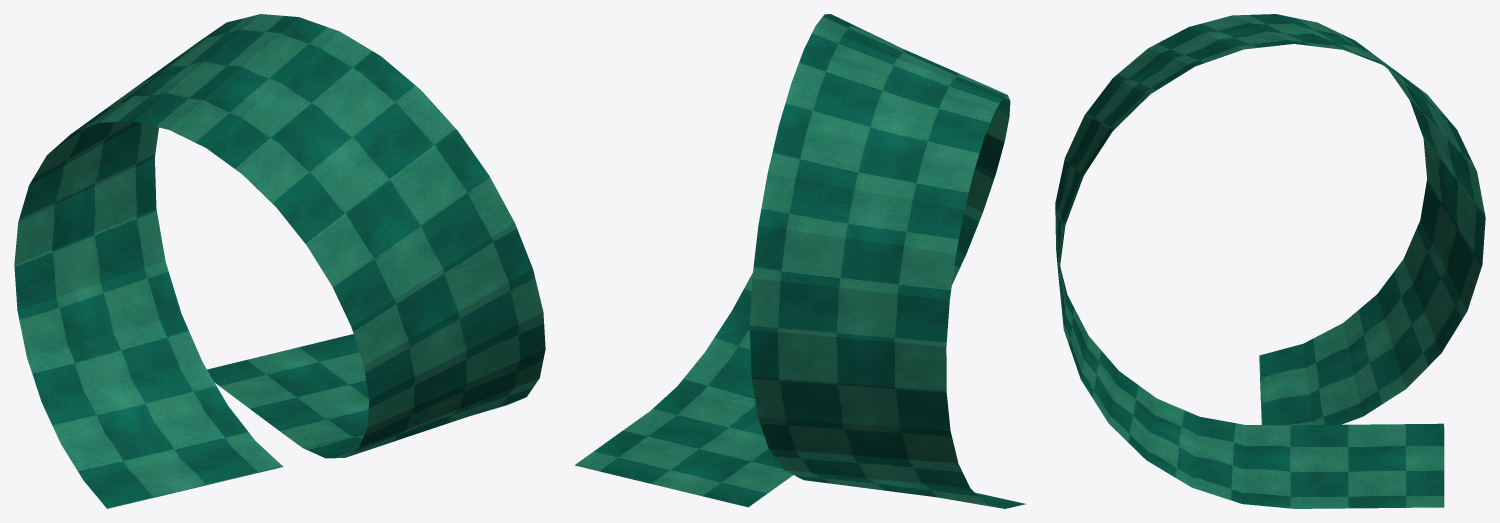
The model's file is Partmid2Coaster.gltf.
3 views of the same model, side by side, from view 1: azimuth 30°, elevation 25°; view 2: azimuth 150°, elevation 25°; view 3: azimuth 270°, elevation 25° (orthographic). The views are drawn at different scales.
Visible parts, largest first — view 1: Partmid2Coaster_glb; view 2: Partmid2Coaster_glb; view 3: Partmid2Coaster_glb.
Part boxes in pixels (bbox=[...]): Partmid2Coaster_glb: bbox=[14, 14, 545, 508]; Partmid2Coaster_glb: bbox=[574, 14, 1025, 508]; Partmid2Coaster_glb: bbox=[1055, 14, 1485, 508].
Size of the model in its own units: 4.16 by 4.59 by 4.33.
1 material, 1 textured.
